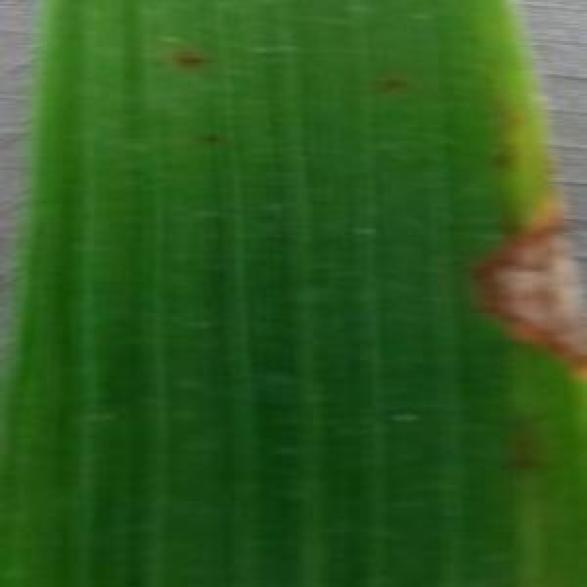Leaf_smut: (436, 184, 585, 397)
